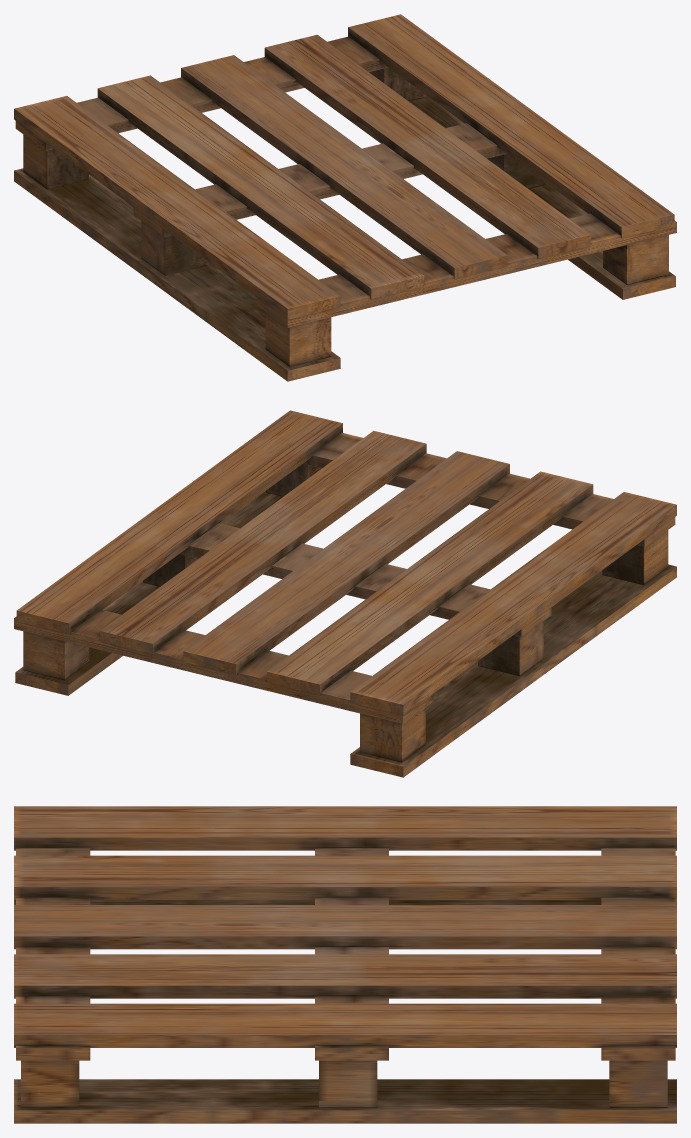
3 views of the same model, one above another, from view 1: azimuth 30°, elevation 25°; view 2: azimuth 150°, elevation 25°; view 3: azimuth 270°, elevation 25° (orthographic). The views are drawn at different scales.
Parts seen in each view (by area): view 1: poddon; view 2: poddon; view 3: poddon.
Boxes of the visible parts, <box> form: poddon: <box>14,14,676,381</box>; poddon: <box>14,410,676,777</box>; poddon: <box>14,806,676,1123</box>.
Bounding box in the file's own units: 467 × 83.21 × 568.
1 material, 1 textured.
